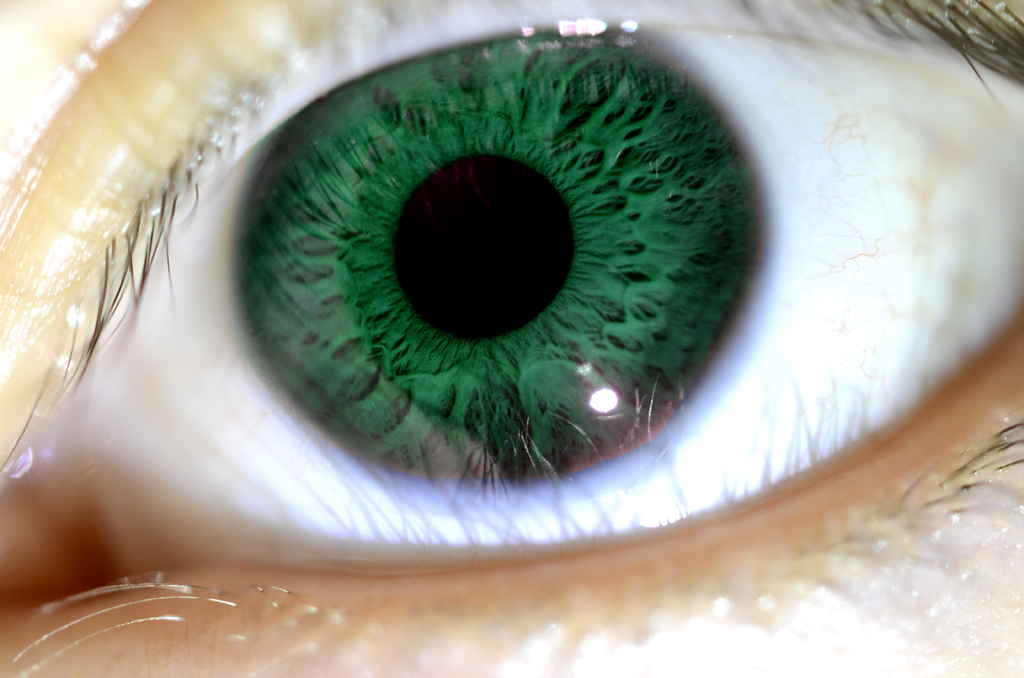Person: (0, 0, 1024, 677)
